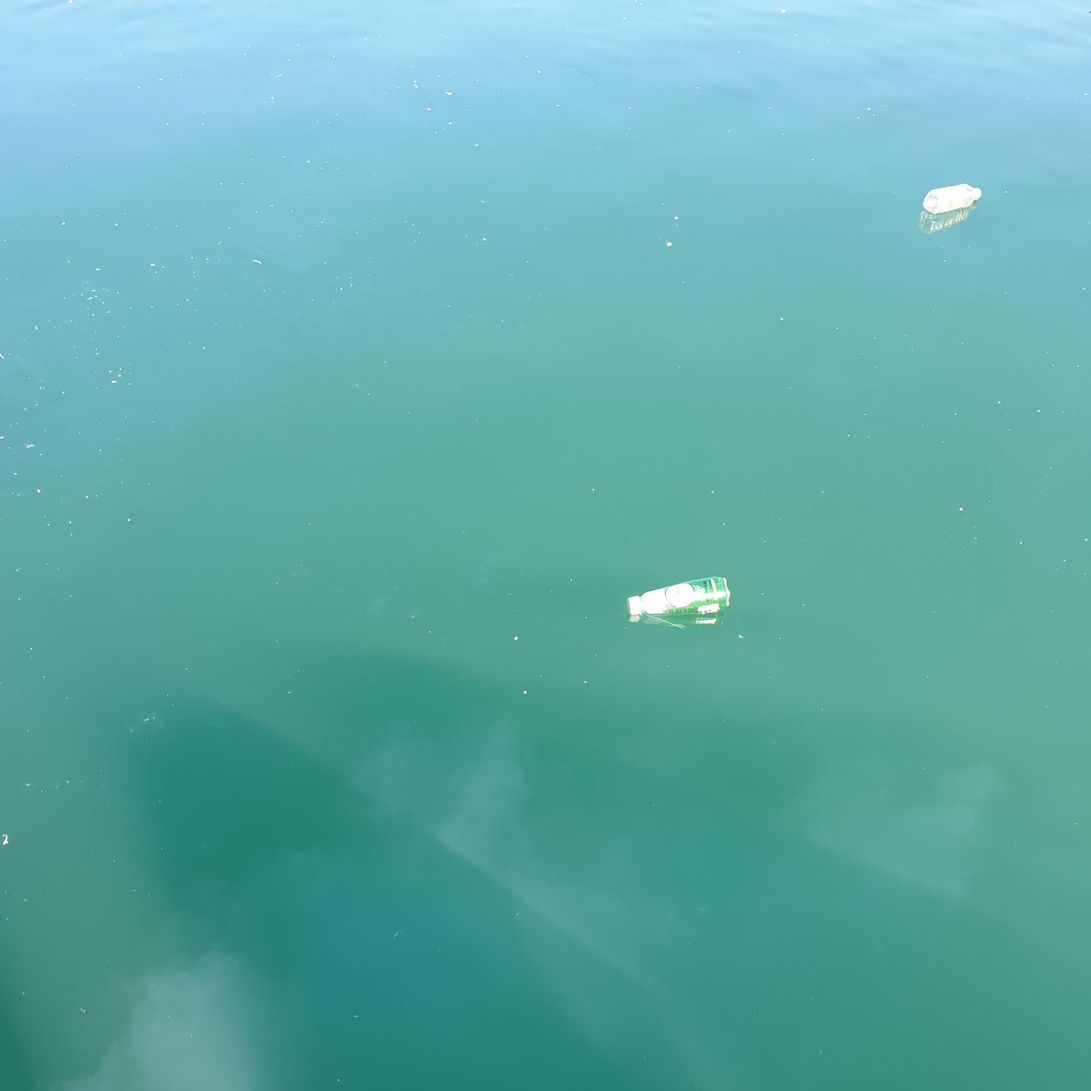sampah_terapung: (628, 577, 731, 615), (923, 184, 982, 215)
